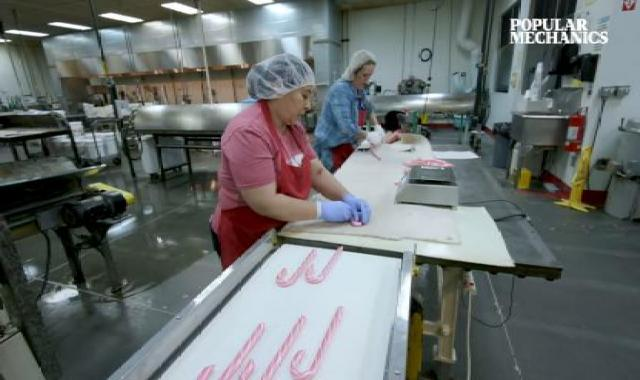hairnet: (246, 56, 314, 105), (341, 50, 390, 82)
